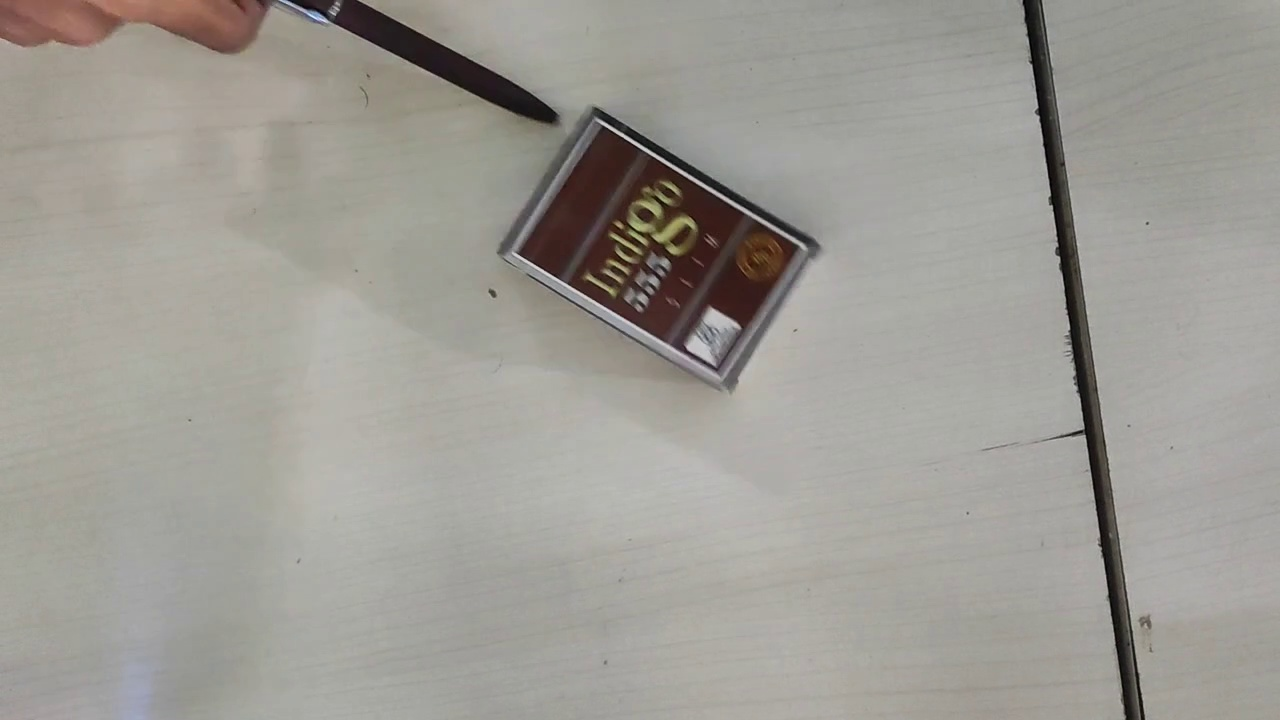BEX: (518, 120, 807, 379)
